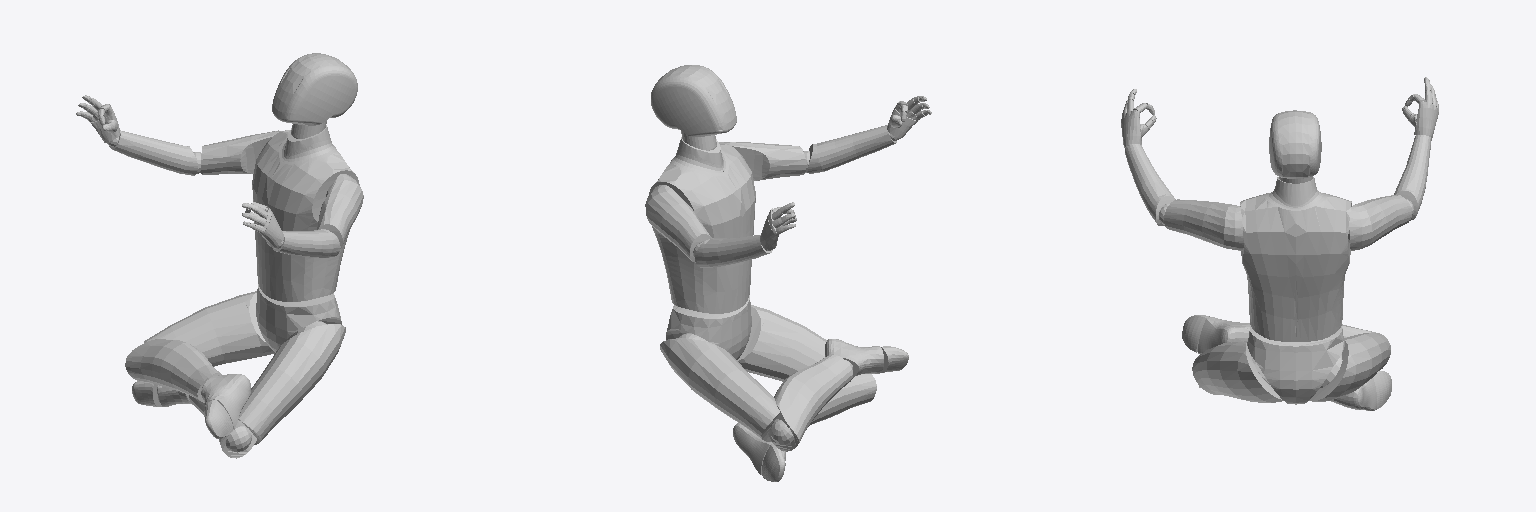
The model's file is meditate.obj.
3 views of the same model, side by side, from view 1: azimuth 30°, elevation 25°; view 2: azimuth 150°, elevation 25°; view 3: azimuth 270°, elevation 25° (orthographic).
Visible parts, largest first — view 1: mannequin.0011; view 2: mannequin.0011; view 3: mannequin.0011.
Part boxes in pixels (x1,y1,x2,y2): mannequin.0011: (76,53,363,458); mannequin.0011: (645,65,931,481); mannequin.0011: (1121,77,1438,410).
Bounding box in the file's own units: 0.701 × 1.13 × 0.9315.